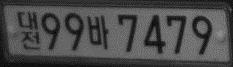4: (143, 15, 165, 54)
7: (166, 14, 187, 54), (117, 13, 138, 52)
9: (191, 15, 213, 55), (63, 12, 84, 51), (40, 11, 60, 50)
대전_V: (17, 10, 40, 50)
바: (86, 14, 110, 50)
